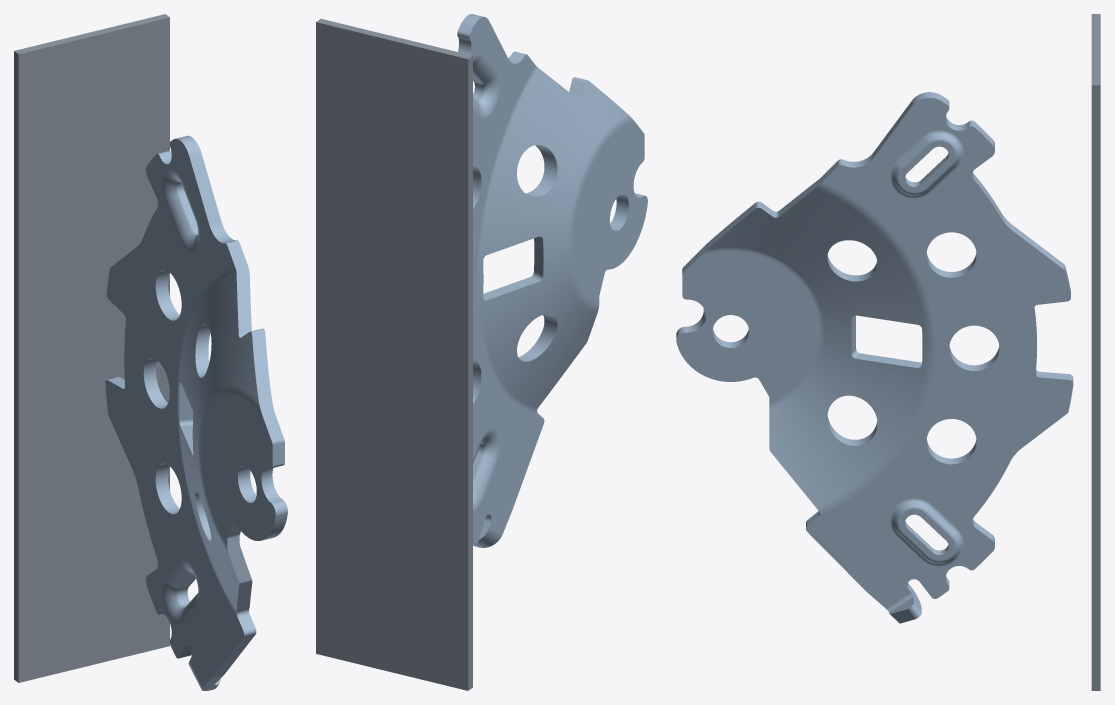
Rendered from part_original_with_platform.obj.
3 renders of one model, left to right at view 1: azimuth 30°, elevation 25°; view 2: azimuth 150°, elevation 25°; view 3: azimuth 270°, elevation 25°, orthographic. The views are drawn at different scales.
Visible parts, largest first — view 1: BuildPlate, Part; view 2: BuildPlate, Part; view 3: Part, BuildPlate.
Boxes of the visible parts, x1,y1,x2,y2 form: BuildPlate: (14,14,169,682); Part: (105,135,287,690); BuildPlate: (316,18,472,690); Part: (457,14,647,547); Part: (676,92,1073,623); BuildPlate: (1091,14,1100,690).
Bounding box in the file's own units: 37.01 × 147 × 93.25.
